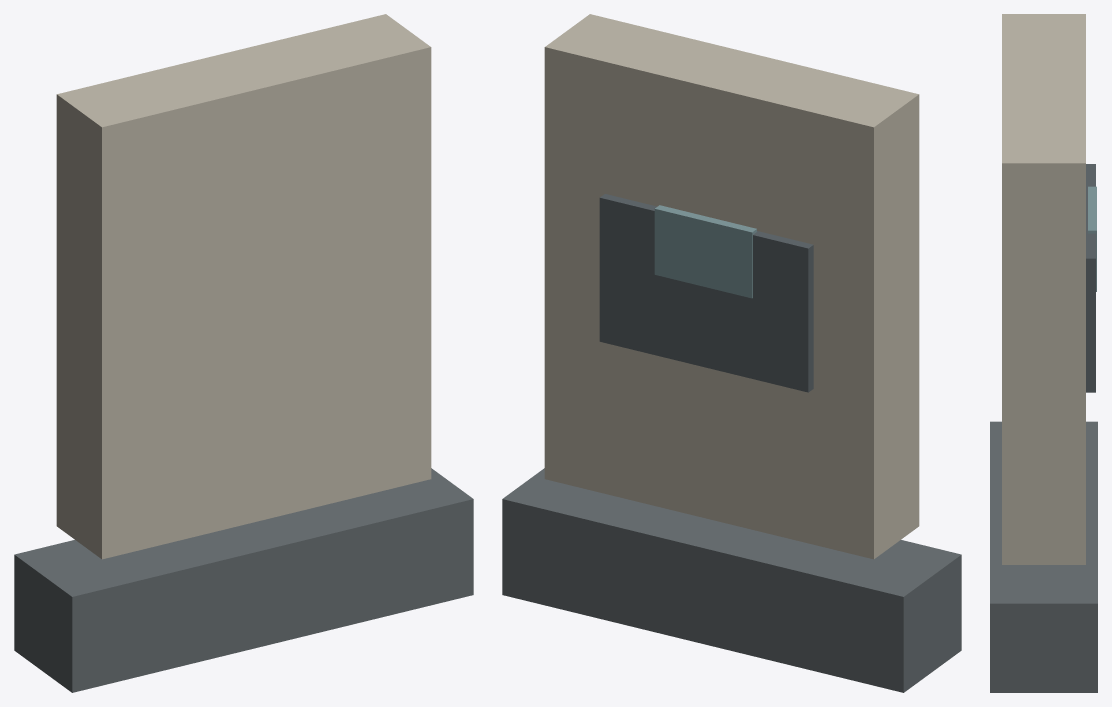
File: iz3_school_bookcase_01.glb
The picture shows the model from 3 angles, left to right: view 1: azimuth 30°, elevation 25°; view 2: azimuth 150°, elevation 25°; view 3: azimuth 270°, elevation 25°; orthographic projection. The views are drawn at different scales.
Parts seen in each view (by area): view 1: cabinet, base; view 2: cabinet, base, panel, display; view 3: cabinet, base, panel, display.
Boxes of the visible parts, x1,y1,x2,y2 form: cabinet: (56,14,431,559); base: (14,468,473,692); cabinet: (544,14,919,559); base: (502,468,961,692); panel: (599,194,813,392); display: (654,205,756,298); cabinet: (1002,14,1085,564); base: (990,421,1097,692); panel: (1086,164,1095,392); display: (1088,186,1096,291).
Size of the model in its own units: 1.4 by 1.84 by 0.35.
